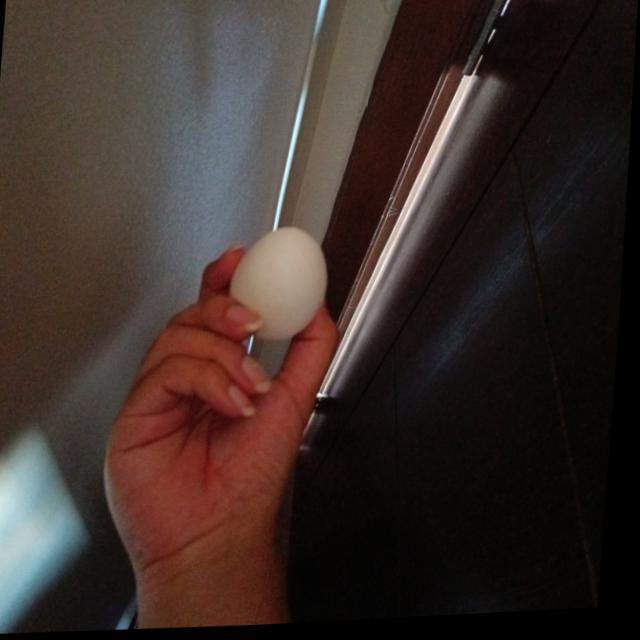egg: (232, 230, 334, 345)
